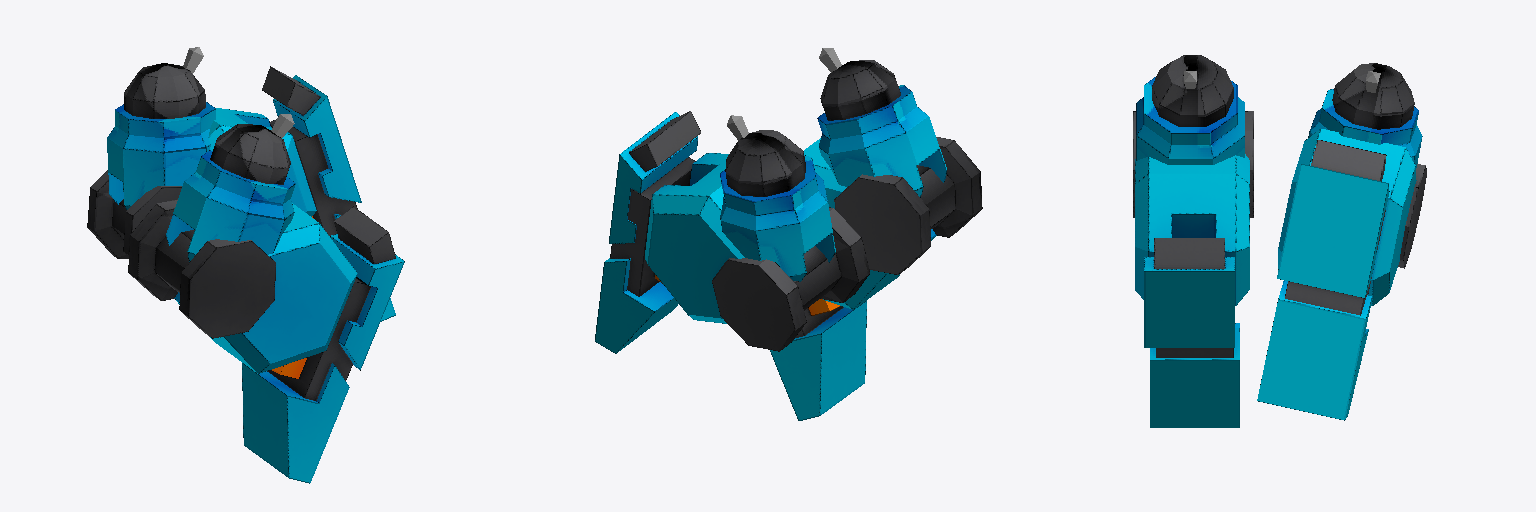
3 views of the same model, side by side, from view 1: azimuth 30°, elevation 25°; view 2: azimuth 150°, elevation 25°; view 3: azimuth 270°, elevation 25° (orthographic).
Visible parts, largest first — view 1: Object013, Object014, Object012, Object009, Object011, Object010; view 2: Object010, Object013, Object011, Object009, Object012, Object014; view 3: Object011, Object014, Object013, Object012, Object009, Object010.
Part boxes in pixels (x1,y1,x2,y2): Object013: (128,199,357,373); Object014: (242,206,404,483); Object012: (166,124,295,261); Object009: (107,63,215,209); Object011: (262,66,395,321); Object010: (87,108,316,258); Object010: (645,153,869,351); Object013: (804,137,982,309); Object011: (595,111,700,353); Object009: (720,130,835,281); Object012: (817,60,946,197); Object014: (770,299,866,420); Object011: (1257,140,1389,420); Object014: (1144,238,1239,427); Object013: (1133,111,1253,305); Object012: (1136,55,1244,164); Object009: (1308,63,1422,167); Object010: (1278,129,1426,305).
Bounding box in the file's own units: 101 × 122 × 91.86.
1 materials, 1 textured.